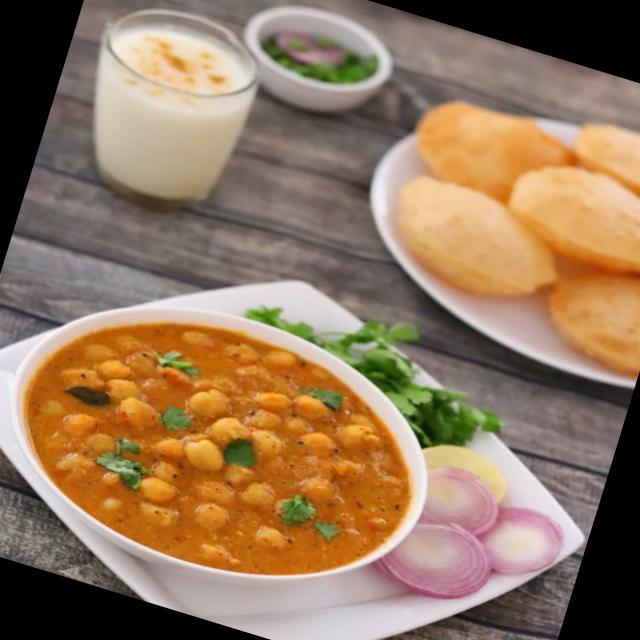Chole: (0, 280, 443, 619)
